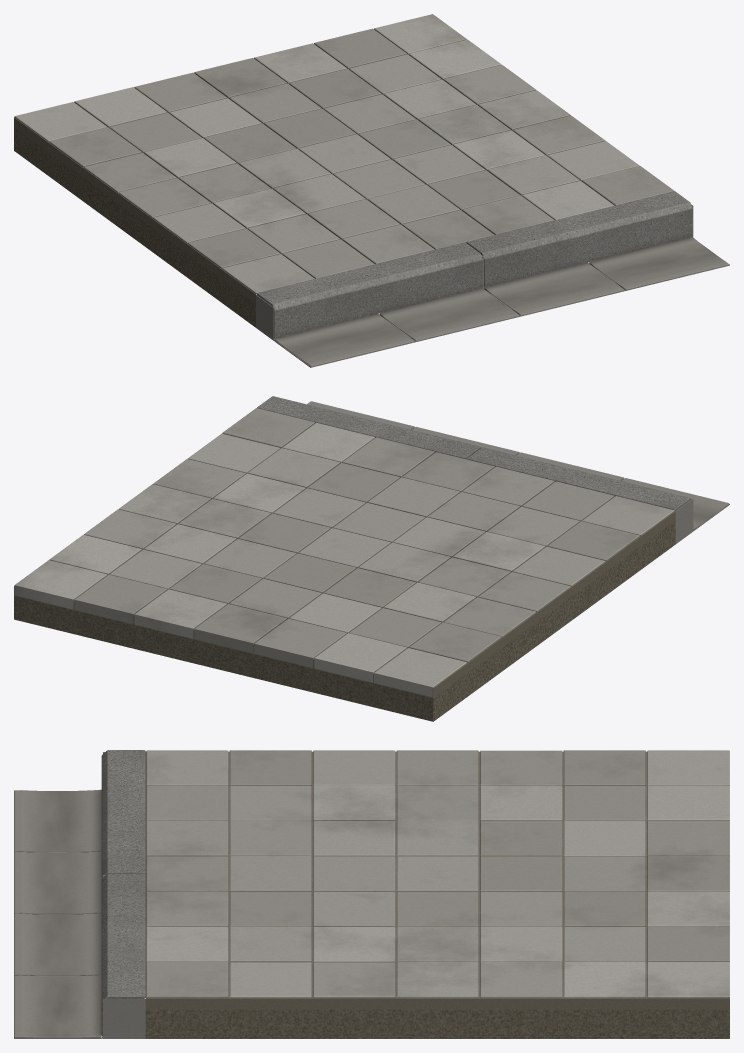
Rendered from curb-sidewalk-segment.glb.
The picture shows the model from 3 angles, top to bottom: view 1: azimuth 30°, elevation 25°; view 2: azimuth 150°, elevation 25°; view 3: azimuth 270°, elevation 25°; orthographic projection. The views are drawn at different scales.
Visible parts, largest first — view 1: curb-sidewalk-segment_body; view 2: curb-sidewalk-segment_body; view 3: curb-sidewalk-segment_body.
Boxes of the visible parts, box(x1,y1,x2,y2) form: curb-sidewalk-segment_body: box(14, 14, 729, 367); curb-sidewalk-segment_body: box(14, 396, 729, 721); curb-sidewalk-segment_body: box(14, 750, 729, 1038).
Size of the model in its own units: 2 by 0.16 by 2.45.
Materials: 1 (1 with a texture image).
